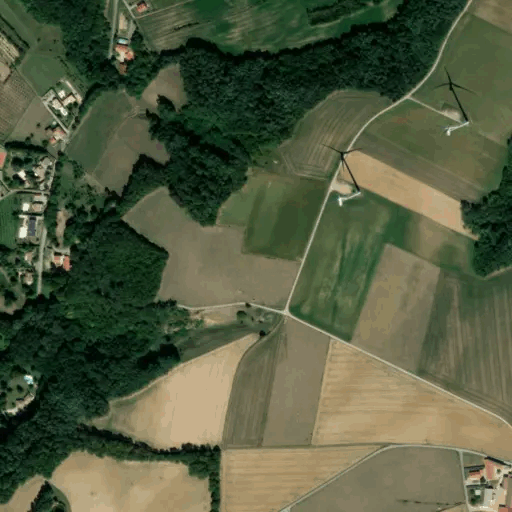wt: (315, 137, 372, 217), (426, 60, 481, 141)
